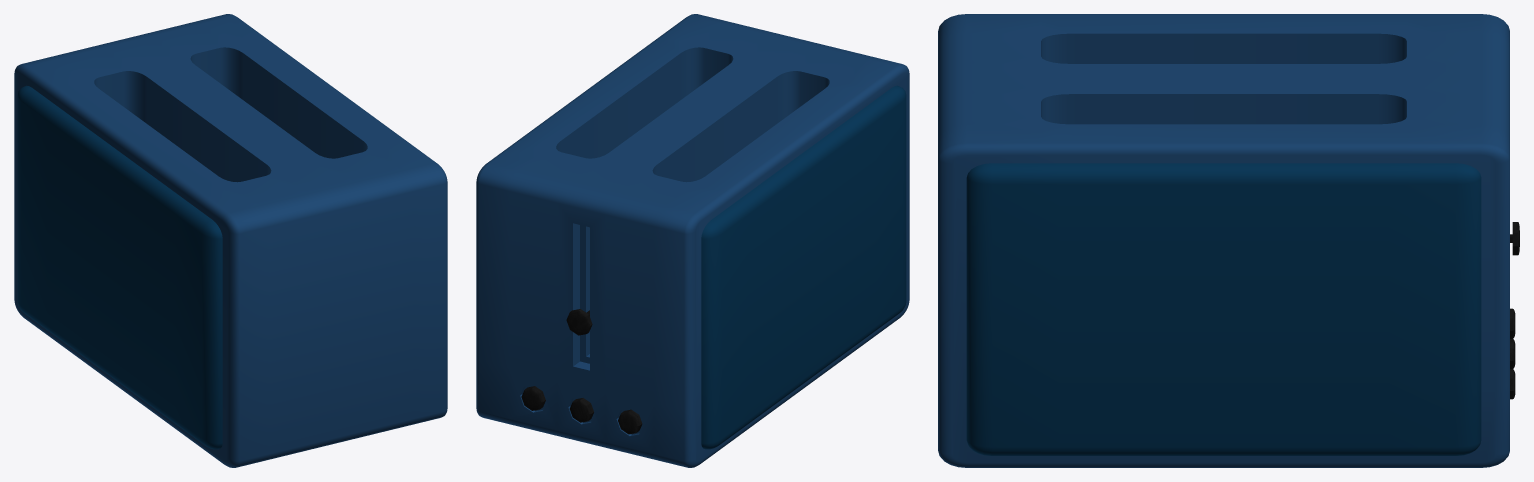
Rendered from toaster.glb.
3 renders of one model, left to right at view 1: azimuth 30°, elevation 25°; view 2: azimuth 150°, elevation 25°; view 3: azimuth 270°, elevation 25°, orthographic. The views are drawn at different scales.
Parts seen in each view (by area): view 1: toaster; view 2: toaster, button; view 3: toaster.
Boxes of the visible parts, x1,y1,x2,y2 form: toaster: [14, 14, 447, 467]; toaster: [476, 14, 909, 467]; button: [566, 309, 592, 335]; toaster: [938, 14, 1515, 467].
Bounding box in the file's own units: 0.198 × 0.2 × 0.3255.
3 materials, 3 textured.
